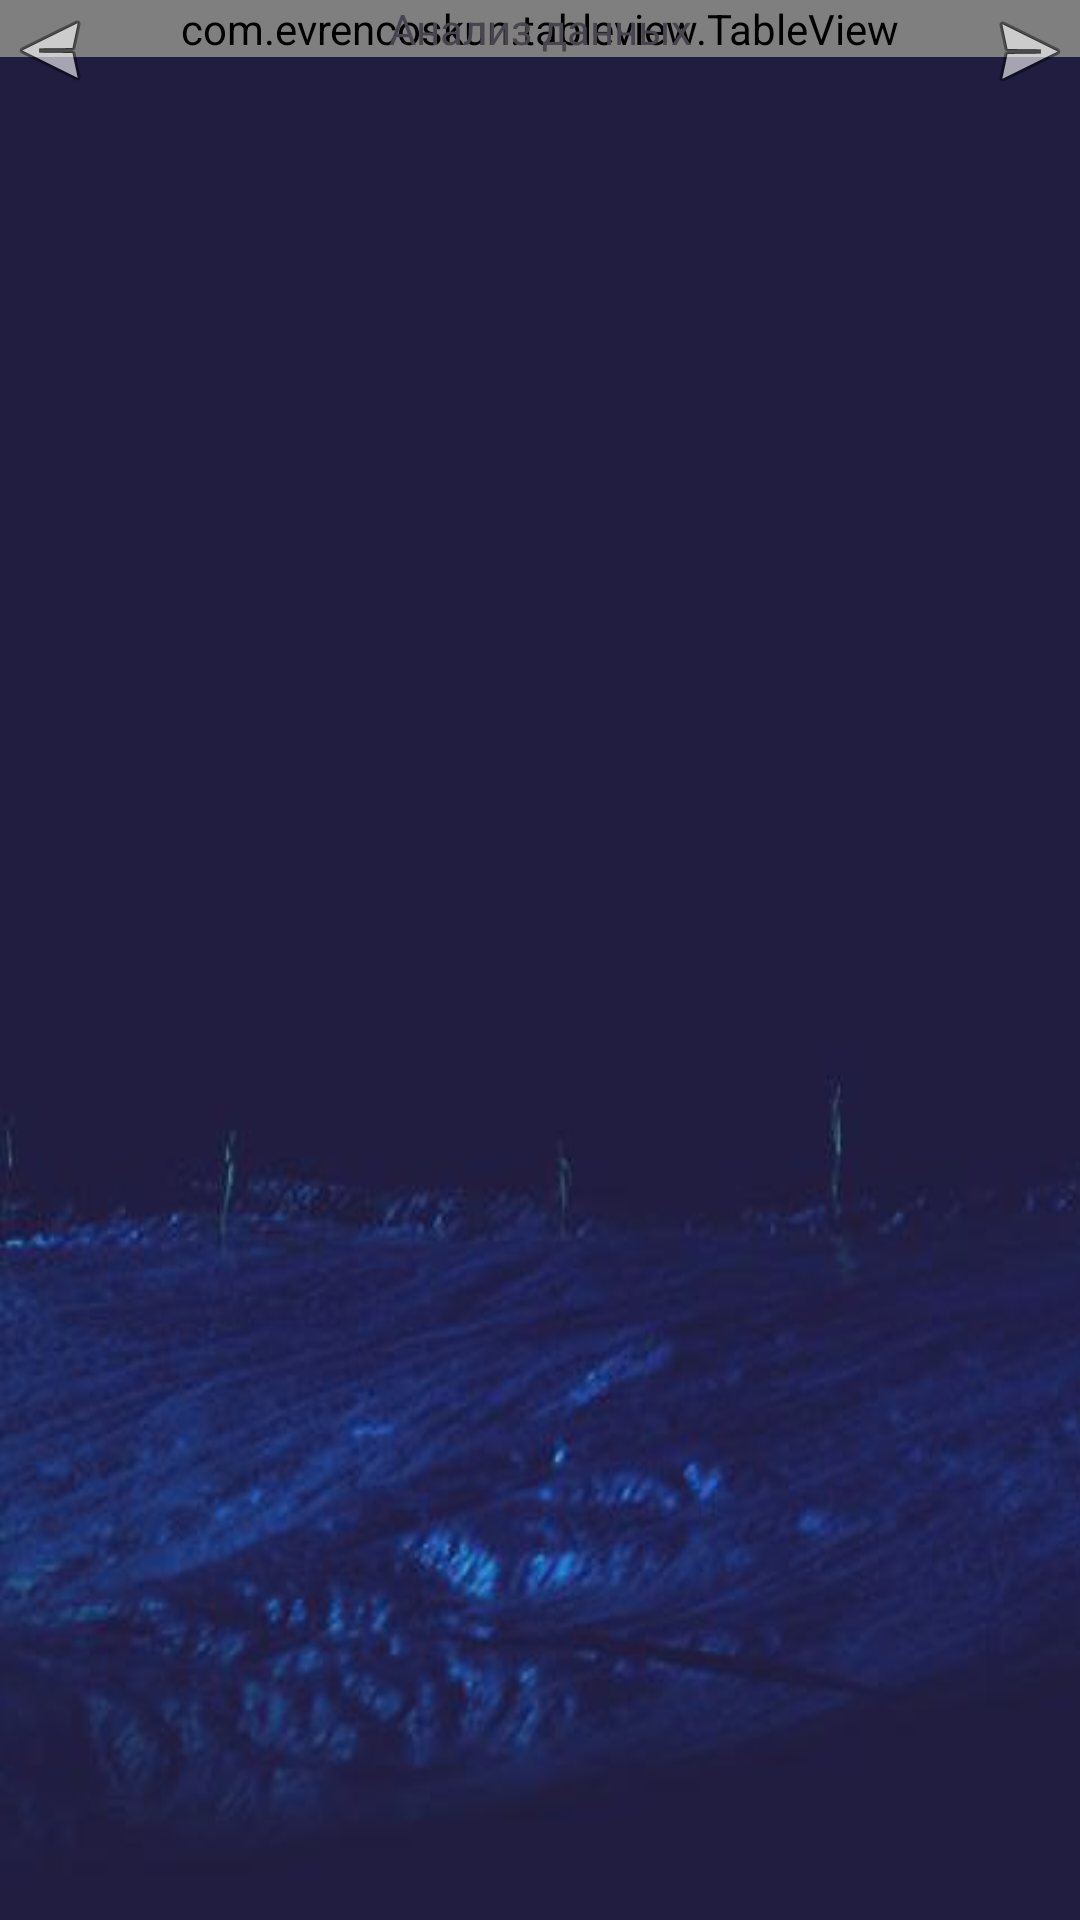

Icons on this 1080 x 1920 Android screen, each with the point to tap as [x,y]:
дальше: [1029,51]
